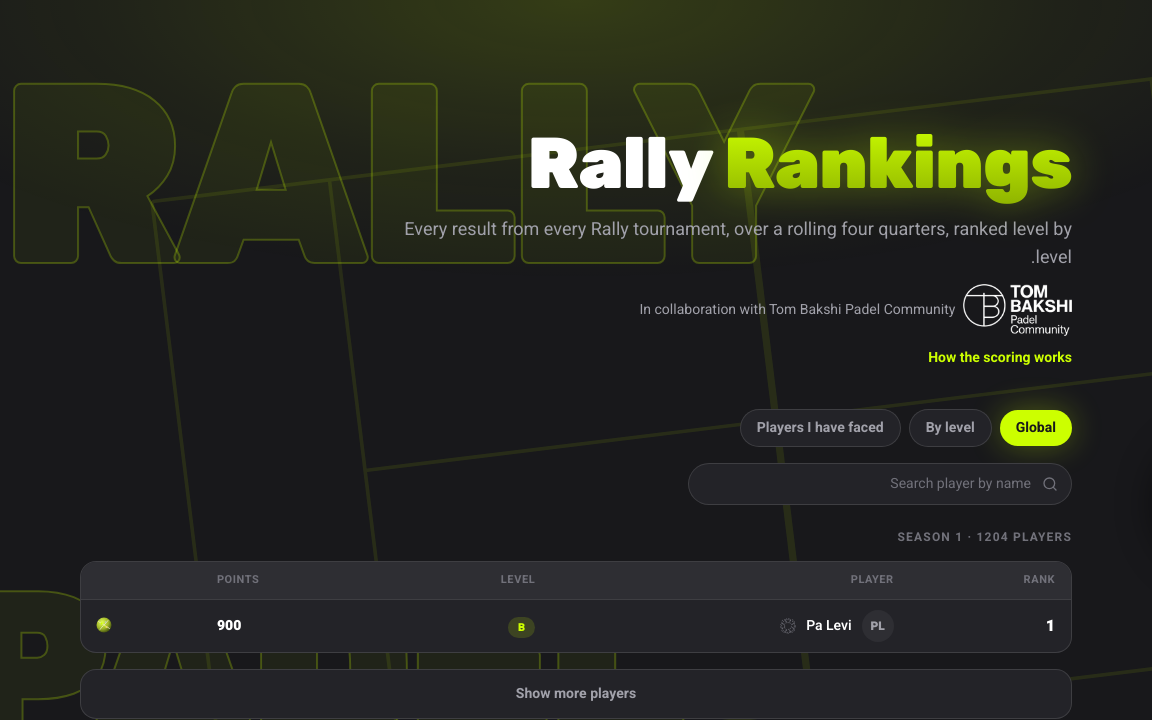
Test: RankingPage name search › hides the search box on the circle frame
expect the table is shown: met, box [81,562,1071,652]
expect the field with test id "league-search" is shown: met, box [688,463,1072,505]
Click the button with test id "league-frame-circle" at (820, 428), box [740,409,901,447]
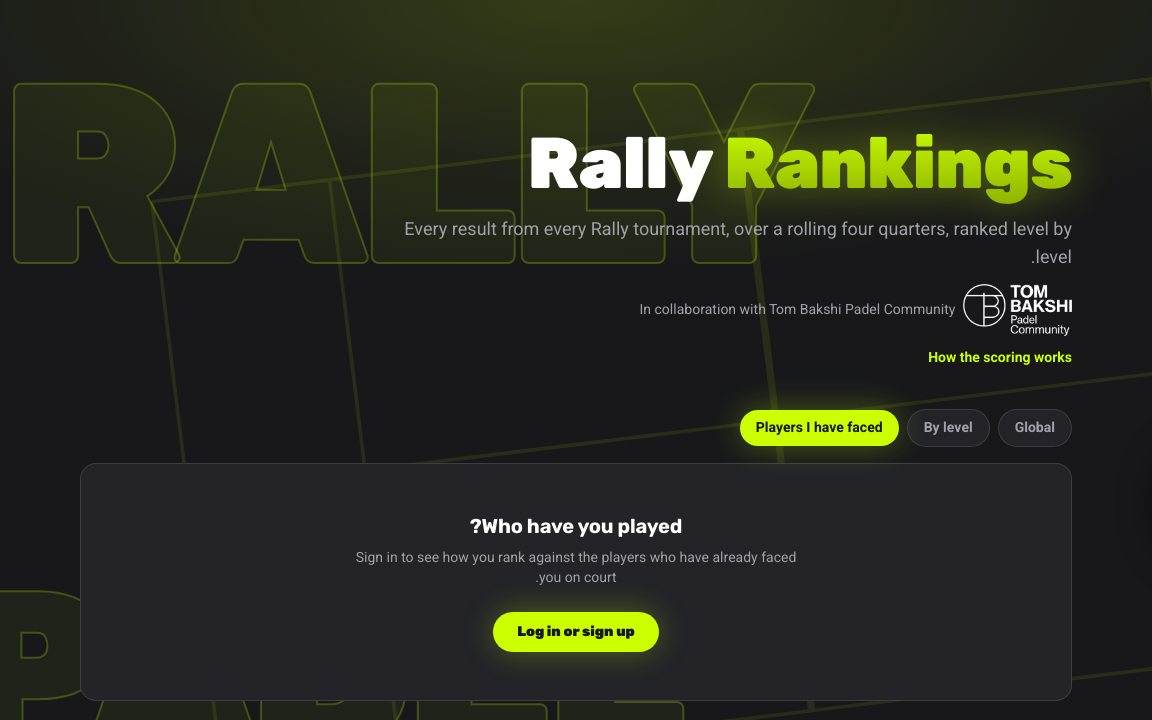
expect the field with test id "league-search" is gone: met
